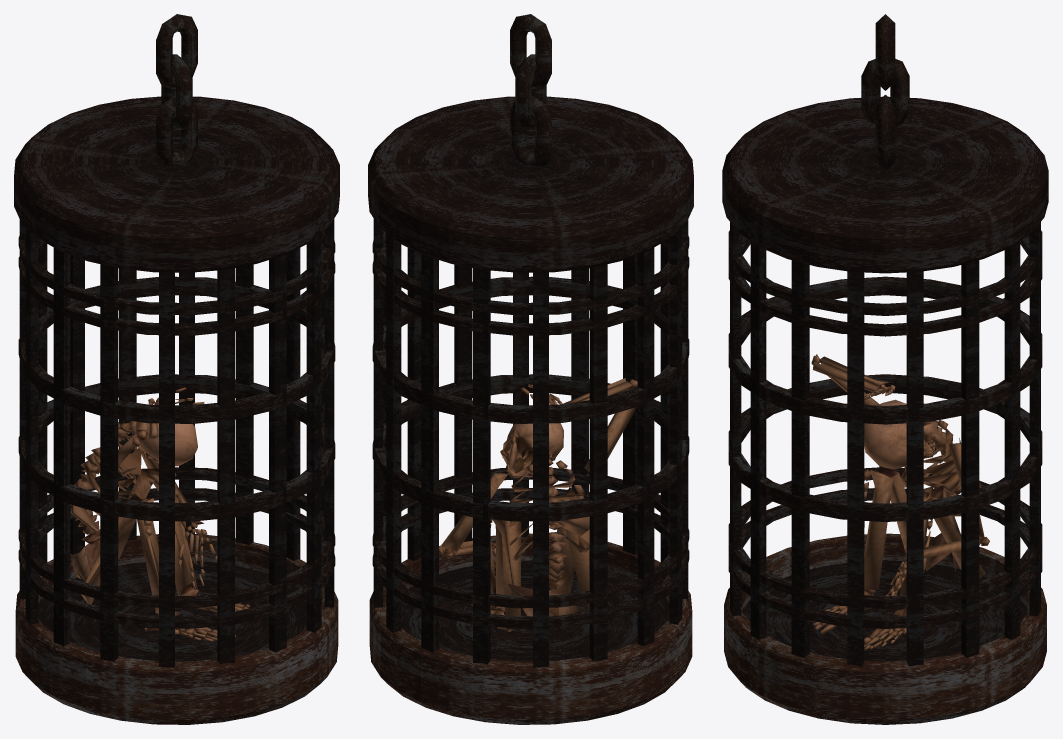
The model's file is mm7_deco_7dec06.glb.
The picture shows the model from 3 angles, left to right: view 1: azimuth 30°, elevation 25°; view 2: azimuth 150°, elevation 25°; view 3: azimuth 270°, elevation 25°; orthographic projection.
Parts seen in each view (by area): view 1: Cage; view 2: Cage; view 3: Cage.
Boxes of the visible parts, <box> form: Cage: <box>14,14,339,724</box>; Cage: <box>368,14,693,724</box>; Cage: <box>722,14,1048,724</box>.
Size of the model in its own units: 1.15 by 2.51 by 1.15.
Materials: 3 (3 with a texture image).
